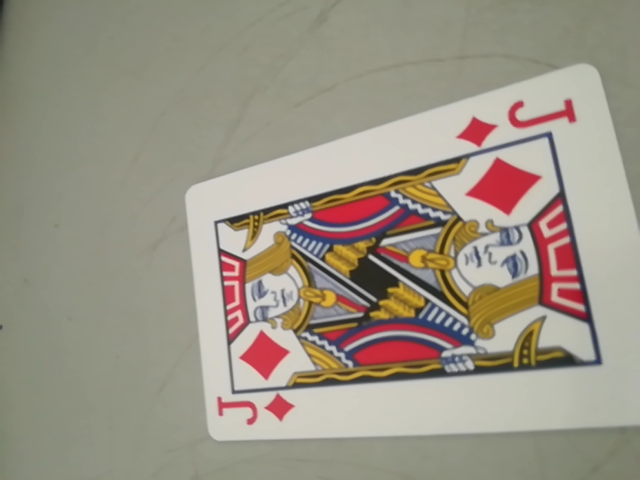fk j: (455, 91, 588, 151), (213, 386, 300, 438)
